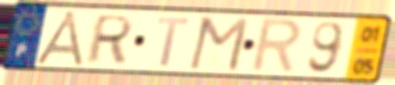9: (306, 20, 346, 76)
A: (32, 9, 89, 68)
M: (185, 15, 252, 74)
R: (247, 16, 305, 76), (82, 13, 137, 66)
T: (155, 15, 193, 69)
